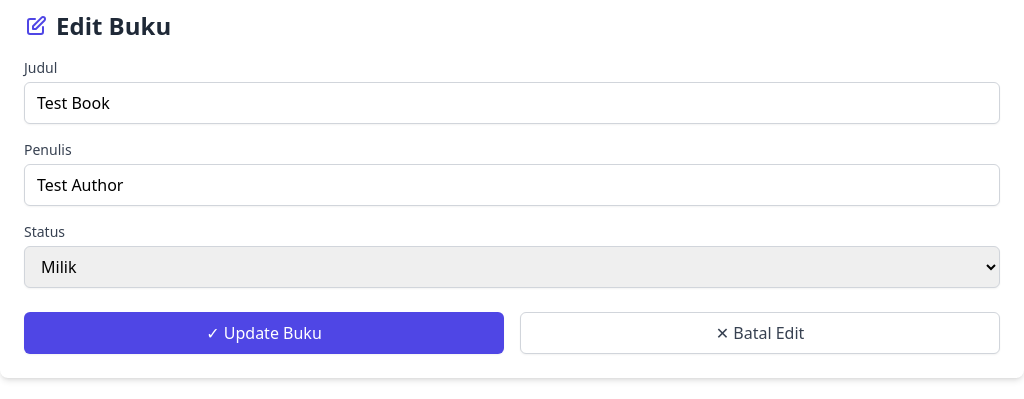
Test: BookForm Component › Editing Book › cancels edit mode when cancel button clicked
Step 1. Click the button "✕ Batal Edit" → (760, 333), box top-left (520, 312), bottom-right (1000, 354)
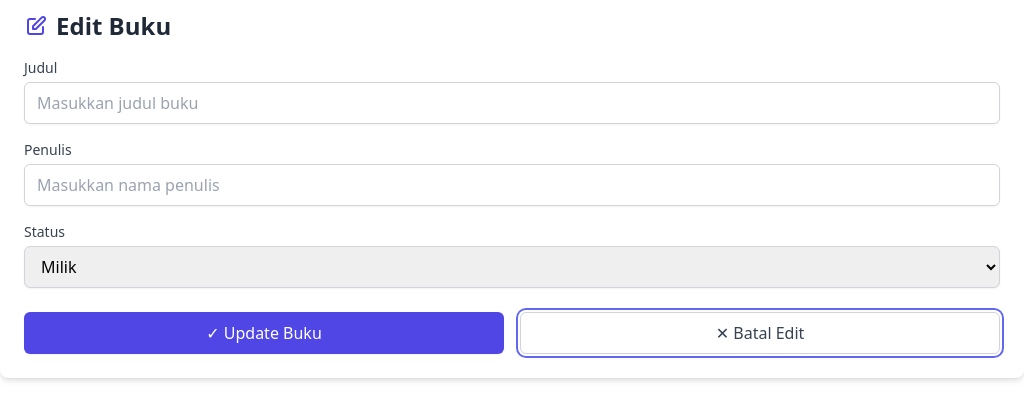
Now the field labelled "Judul" is empty, box top-left (24, 82), bottom-right (1000, 124)
Now the field labelled "Penulis" is empty, box top-left (24, 164), bottom-right (1000, 206)
